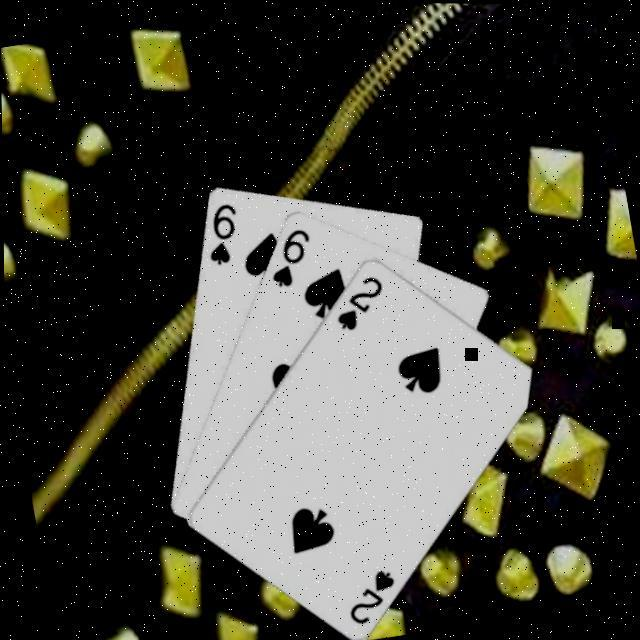2S: (325, 270, 391, 336), (336, 564, 402, 630)
6S: (259, 224, 319, 292), (194, 200, 246, 270)
